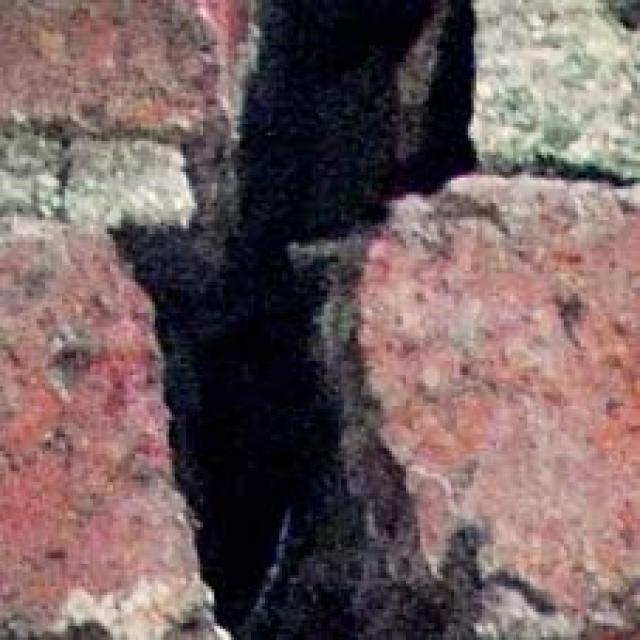Crack: (86, 0, 542, 640)
